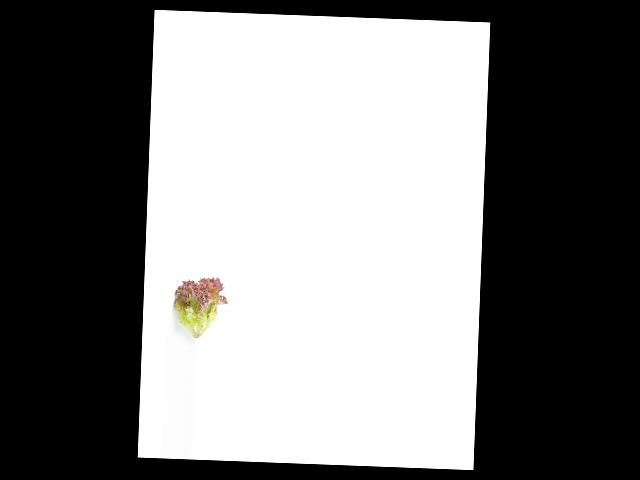lettuce: (170, 273, 226, 347)
